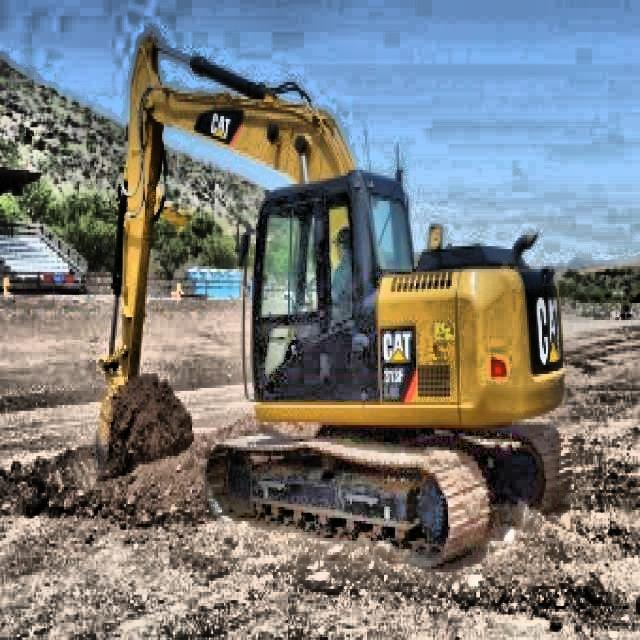bull_dozer/loader/grader: (91, 22, 574, 576)
person: (325, 220, 358, 340)
